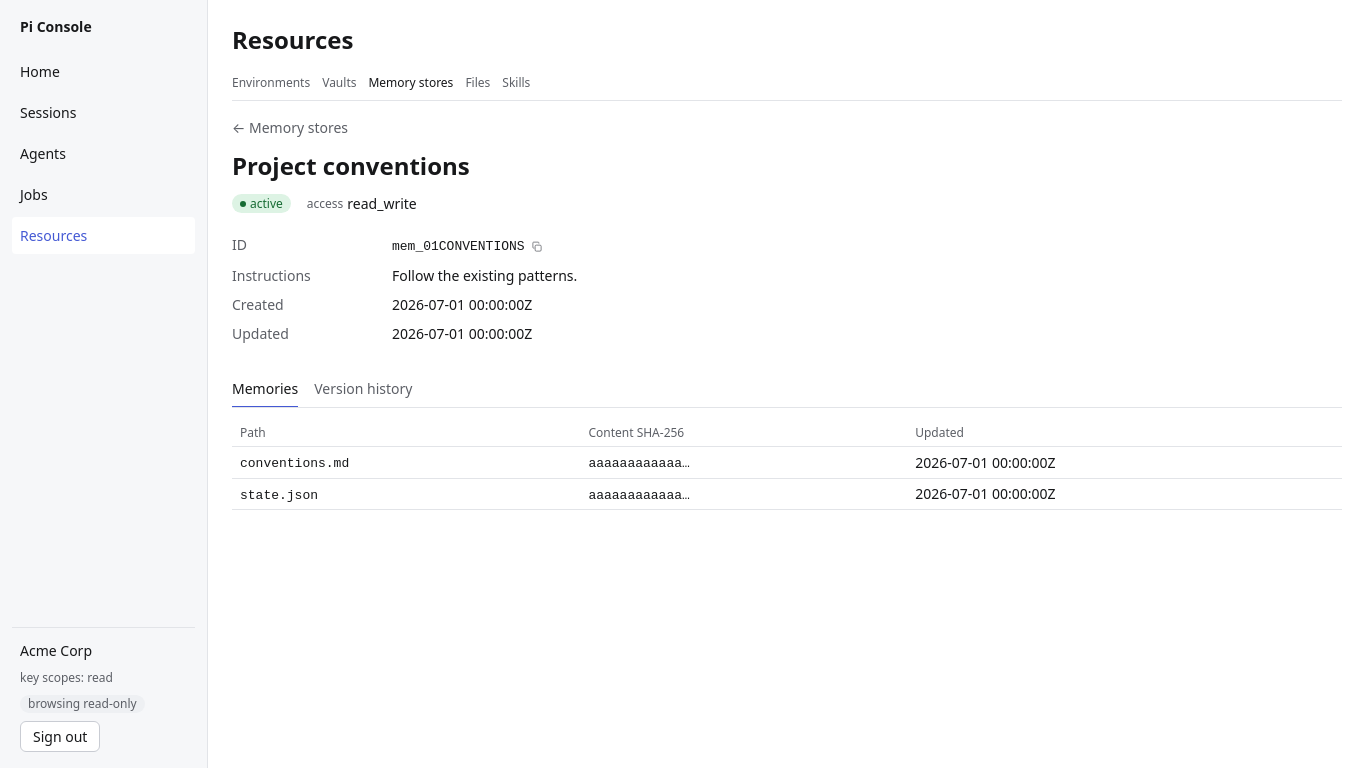
Test: memory store detail (§9.5) › the version-history copy states what restore really does (WP-C4.0b — the audit-only claim is gone)
This screenshot has width=1366, height=768.
Expected: the table named "Memories" is shown, [232,420,1342,510]
Click the tab "Version history" at (363, 390), box [314,372,412,408]
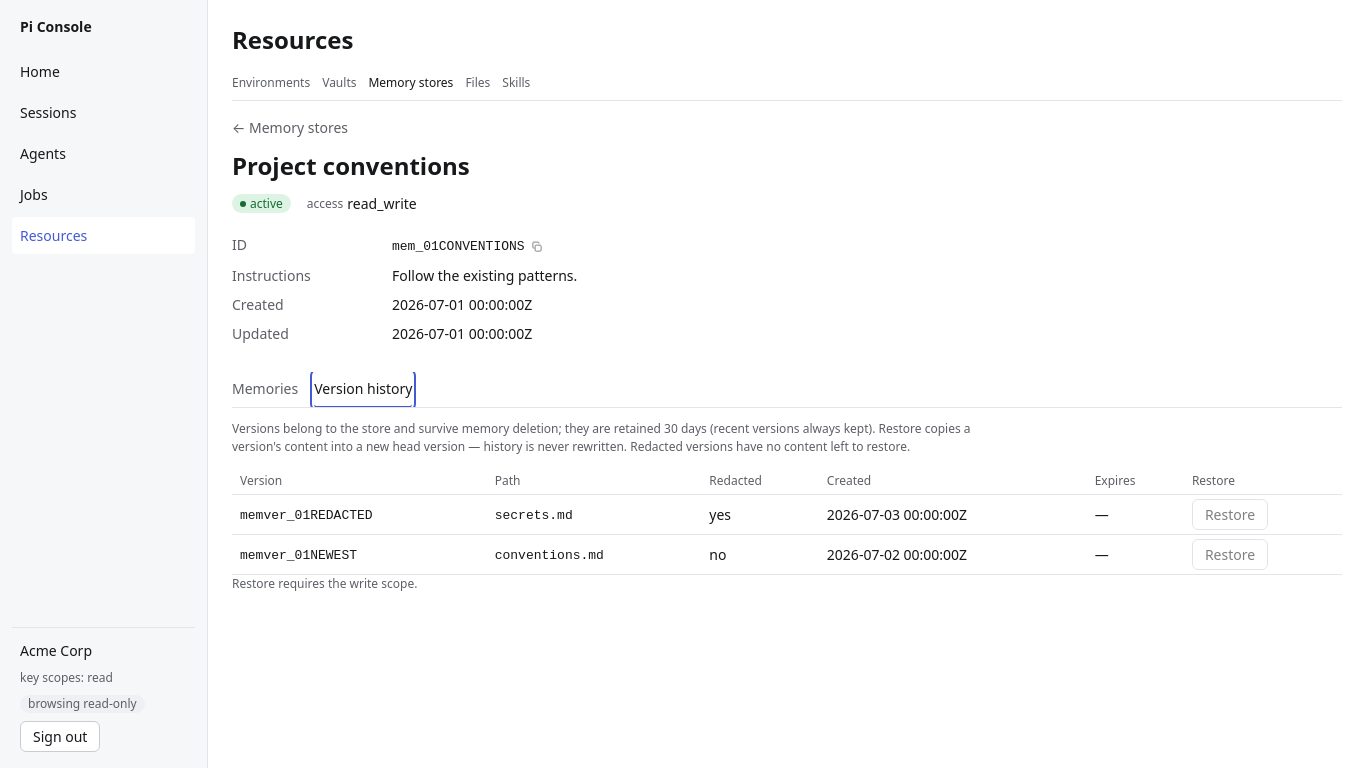
Expected: the table named "Memory versions" is shown, [232,468,1342,575]
Result: the text "Restore copies a version's content into a new head version" is shown at [232,420,970,455]
